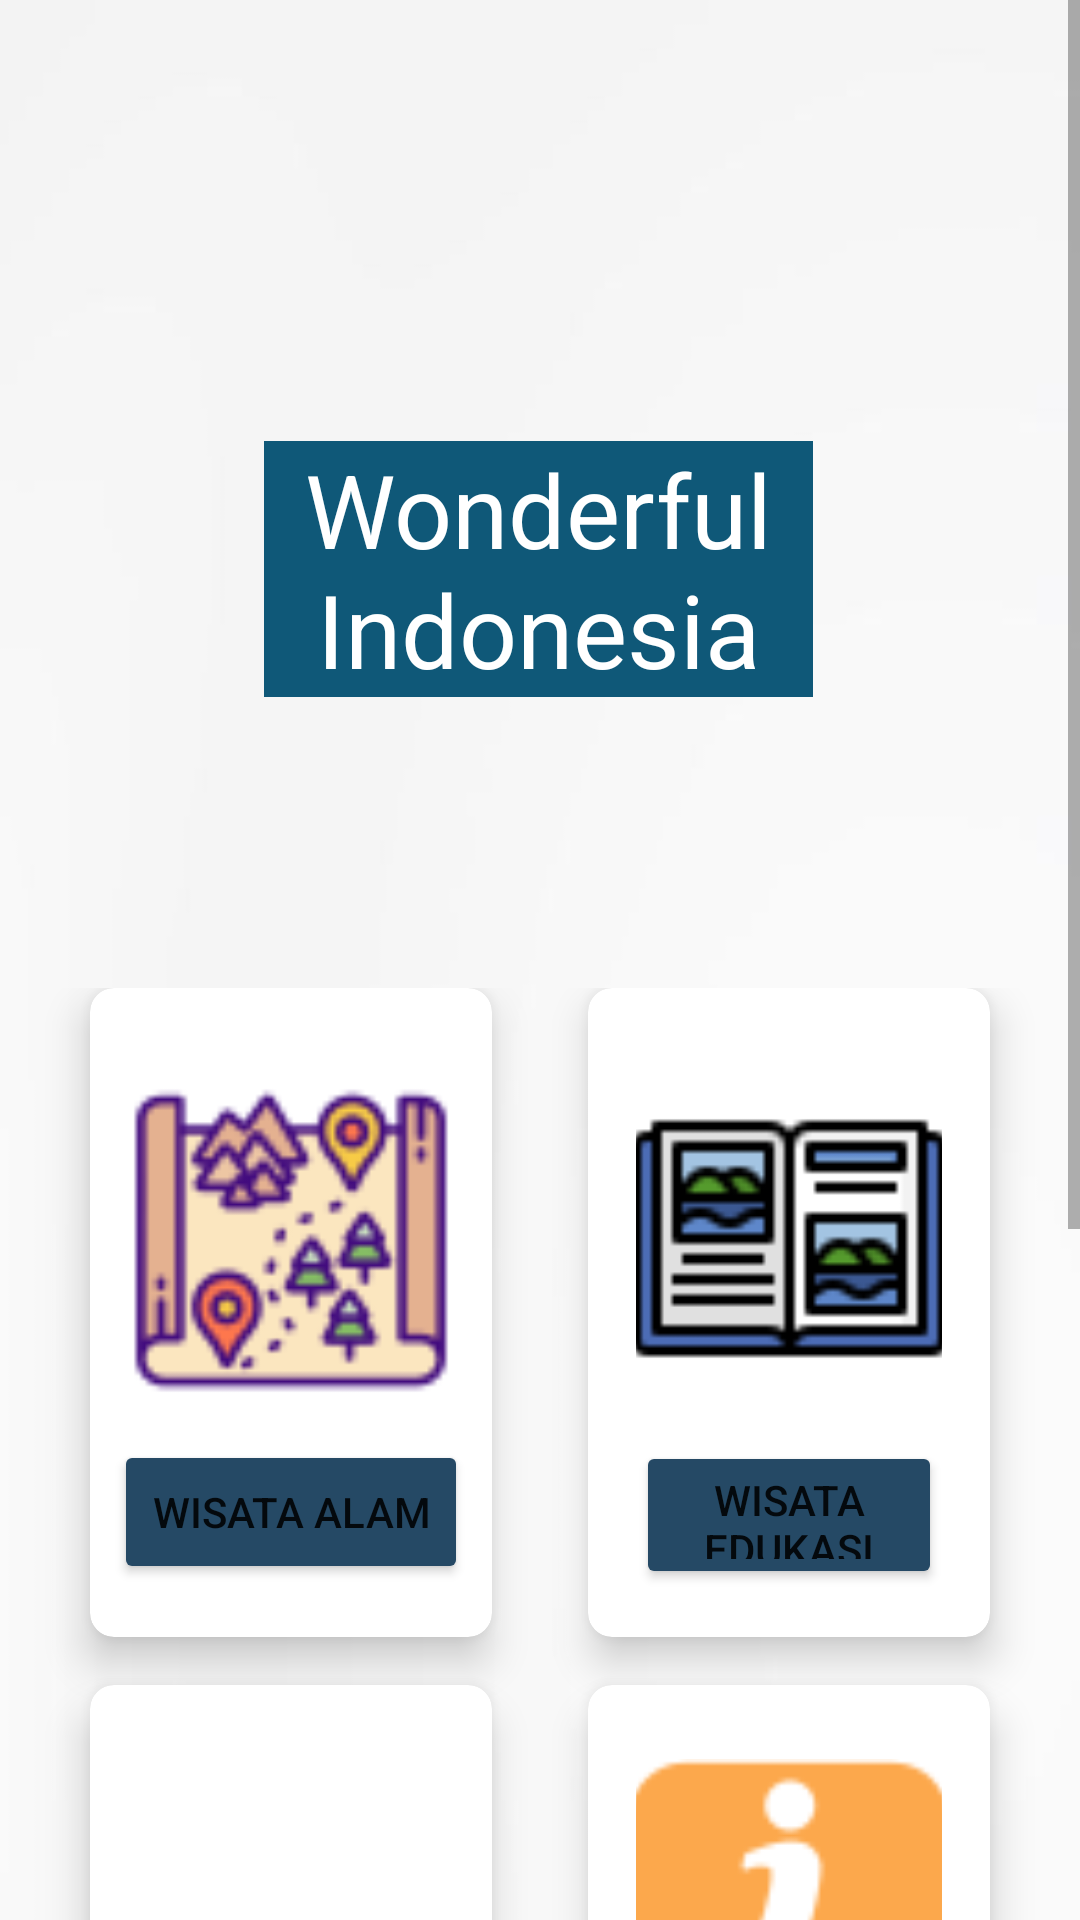

Where to tap for icons on this 1080px x 1920px app screen, as [x,y]:
magazine: [789,1238]
